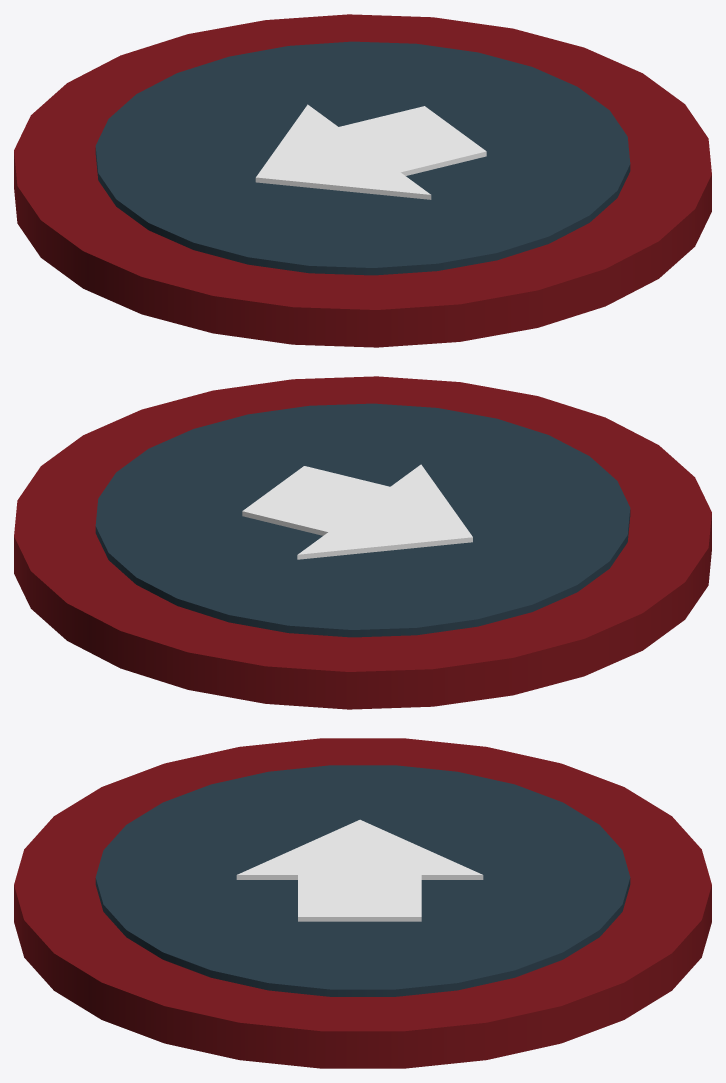
The picture shows the model from 3 angles, top to bottom: view 1: azimuth 30°, elevation 25°; view 2: azimuth 150°, elevation 25°; view 3: azimuth 270°, elevation 25°; orthographic projection.
Visible parts, largest first — view 1: Plane.001; view 2: Plane.001; view 3: Plane.001.
Part boxes in pixels (x1,y1,x2,y2): Plane.001: (14, 14, 711, 347); Plane.001: (14, 376, 711, 709); Plane.001: (14, 738, 711, 1068).
Size of the model in its own units: 199 by 15.72 by 200.
